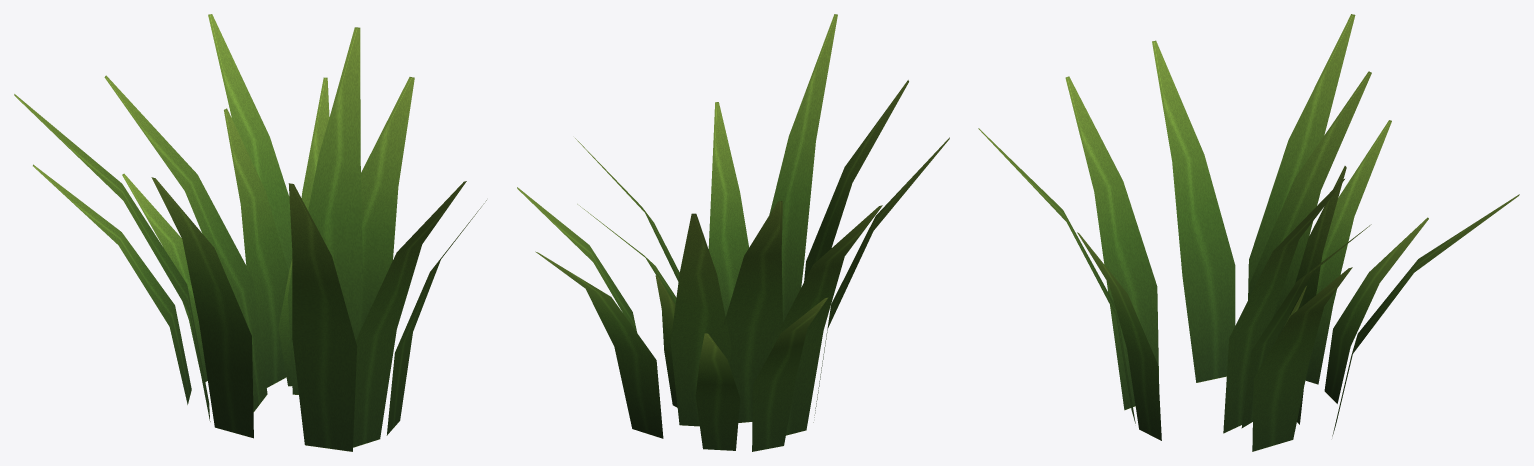
Rendered from tuft_mid.glb.
3 views of the same model, side by side, from view 1: azimuth 30°, elevation 25°; view 2: azimuth 150°, elevation 25°; view 3: azimuth 270°, elevation 25° (orthographic). The views are drawn at different scales.
Visible parts, largest first — view 1: model; view 2: model; view 3: model.
Part boxes in pixels (box(x1,y1,x2,y2)): model: box(14, 14, 486, 451); model: box(517, 14, 949, 451); model: box(978, 14, 1519, 451).
Bounding box in the file's own units: 0.4618 × 0.3539 × 0.5826.
1 material, 1 textured.
